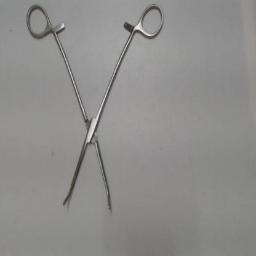Lahey Forceps: (19, 2, 167, 218)
